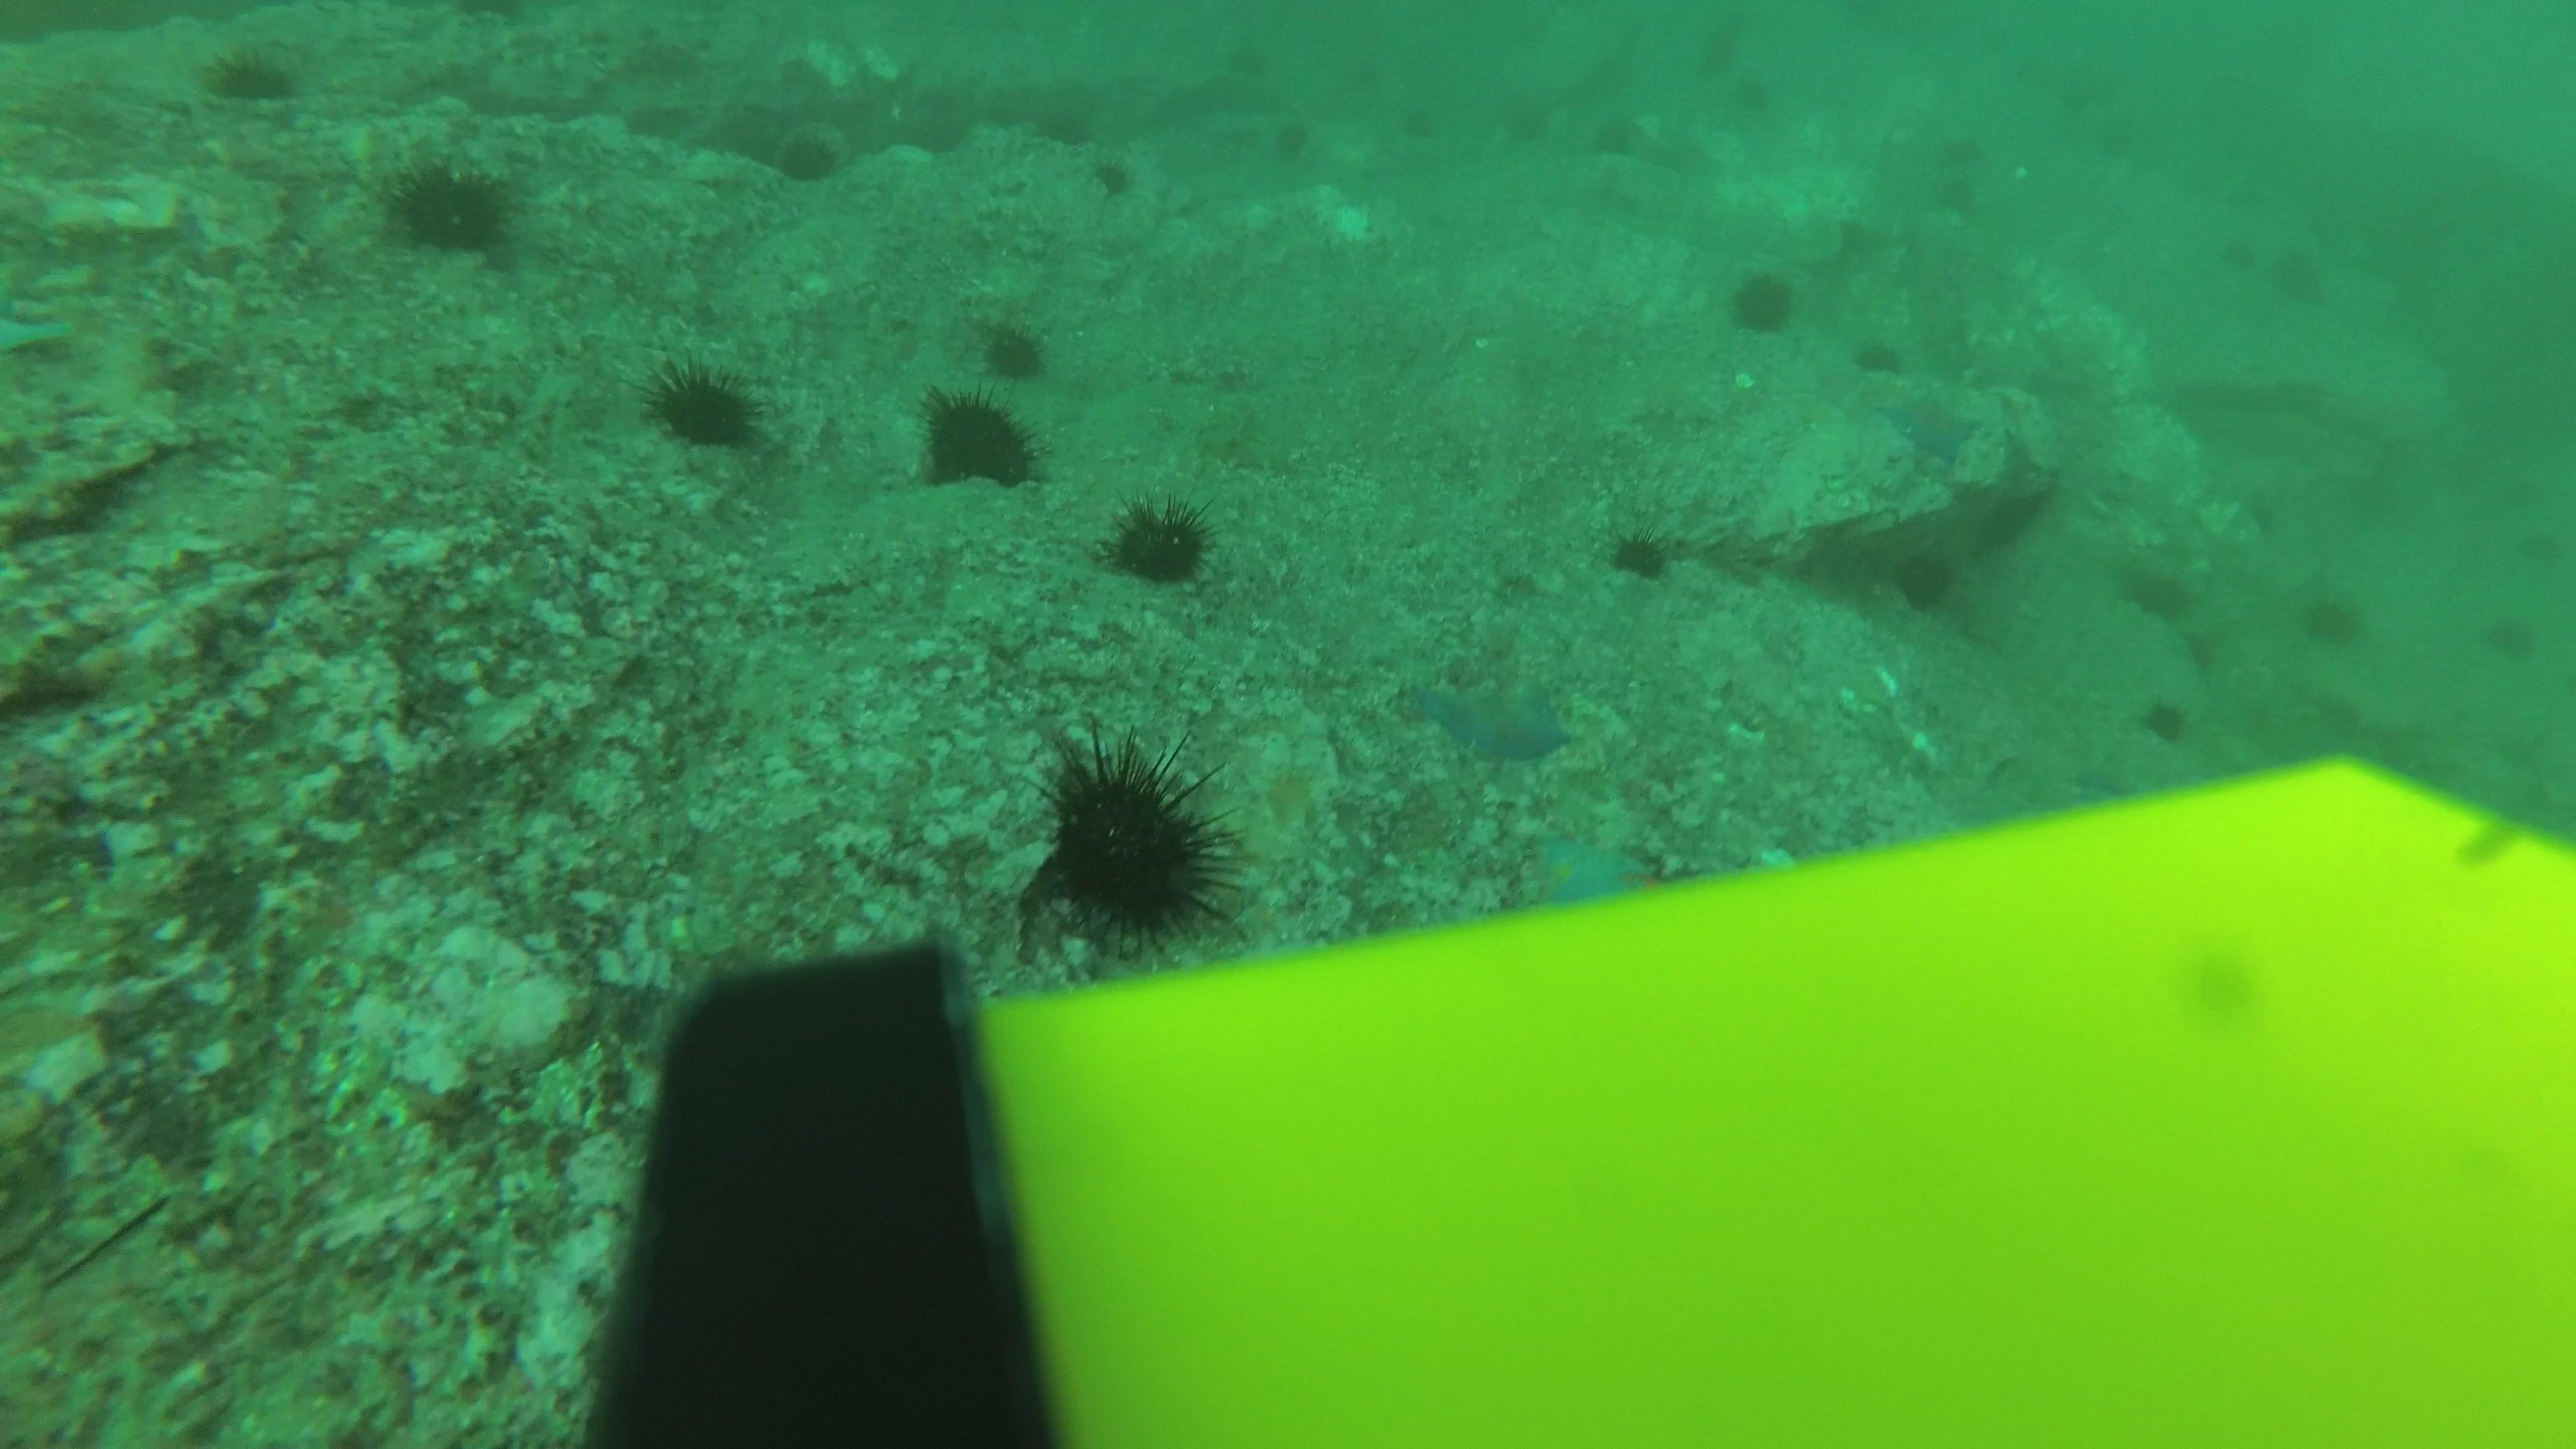echinus: (1030, 731, 1242, 945), (384, 152, 517, 260), (916, 386, 1040, 492), (644, 356, 763, 453), (1104, 494, 1214, 587), (200, 42, 299, 106), (2114, 550, 2199, 621), (1723, 264, 1799, 336), (1890, 543, 1962, 614), (2296, 582, 2369, 649), (771, 122, 847, 186), (978, 315, 1049, 382), (1605, 520, 1675, 582), (2265, 251, 2337, 301), (2137, 692, 2192, 747), (2503, 520, 2562, 571), (2482, 609, 2541, 658), (1086, 152, 1136, 202), (2210, 239, 2263, 280), (1851, 336, 1904, 377), (1928, 180, 1982, 221), (2097, 124, 2150, 165), (2054, 76, 2107, 117), (2001, 50, 2054, 90), (1387, 106, 1440, 147), (1269, 111, 1322, 152), (1030, 110, 1083, 150), (1936, 127, 1989, 166), (1730, 73, 1783, 111), (1686, 28, 1739, 67), (1589, 119, 1642, 157), (1497, 108, 1550, 147), (1212, 39, 1265, 78), (2498, 478, 2546, 518), (2447, 449, 2495, 490)
starfish: (1401, 669, 1576, 768), (1520, 824, 1656, 906), (1874, 382, 1987, 469), (0, 294, 78, 357)
